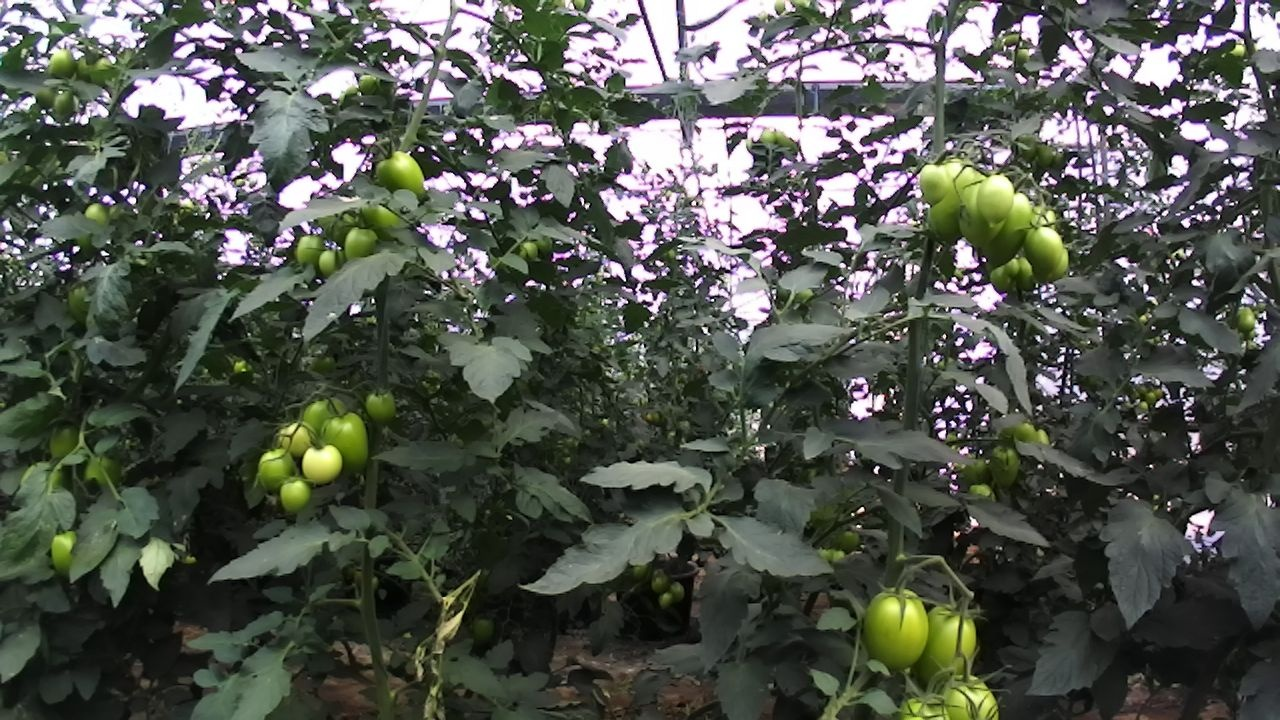tomato: (855, 573, 941, 683), (913, 589, 986, 693), (921, 149, 986, 252), (977, 183, 1036, 275), (953, 167, 1015, 254), (367, 140, 439, 211), (932, 660, 1017, 720), (32, 520, 105, 586), (316, 407, 379, 477), (290, 389, 361, 449), (250, 442, 308, 499), (293, 435, 351, 492), (972, 164, 1019, 234), (268, 412, 324, 466), (990, 414, 1048, 465), (1019, 221, 1071, 276), (80, 448, 130, 503), (43, 417, 91, 471), (911, 157, 960, 209), (273, 468, 320, 521), (73, 191, 122, 241), (337, 220, 384, 271), (985, 438, 1026, 495), (285, 228, 334, 275), (359, 382, 405, 429), (41, 41, 83, 90), (1011, 251, 1047, 303), (462, 607, 505, 649), (309, 244, 358, 279), (957, 451, 995, 488), (1232, 296, 1263, 339), (513, 236, 546, 267), (987, 261, 1014, 297), (644, 566, 674, 598), (50, 87, 78, 120), (33, 82, 62, 111), (755, 121, 781, 153), (1000, 253, 1026, 280), (665, 580, 690, 604), (655, 588, 676, 612)
